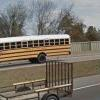Bus: (1, 32, 75, 62)
